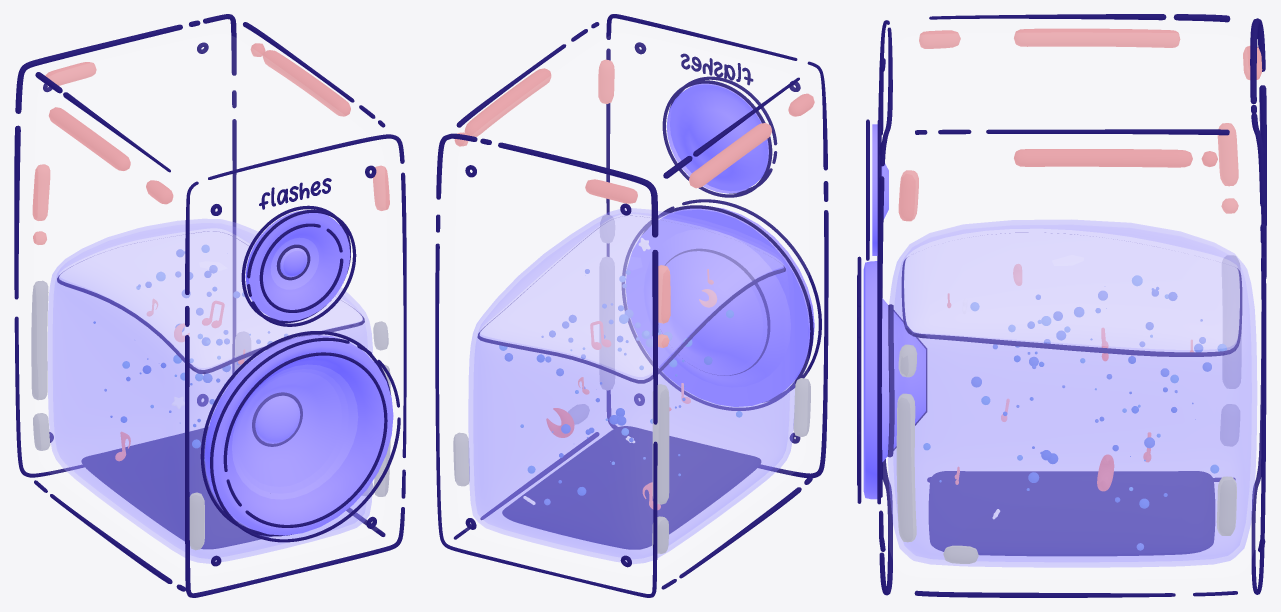
The model's file is speaker.glb.
The picture shows the model from 3 angles, left to right: view 1: azimuth 30°, elevation 25°; view 2: azimuth 150°, elevation 25°; view 3: azimuth 270°, elevation 25°; orthographic projection. The views are drawn at different scales.
Parts seen in each view (by area): view 1: WaveAnimated, Circle, Cube.001, Cube.005, Cube.006, Circle.001, Cube.008, Cube.007, Circle.003, Circle.002, Circle.009, Circle.008 (+5 smaller); view 2: WaveAnimated, Circle, Cube.001, Cube.006, Cube.005, Circle.001, Cube.007, Cube.008, Circle.003, bubles, Outline, Circle.002 (+3 smaller); view 3: WaveAnimated, Cube.001, Cube.006, Cube.005, Cube.008, Cube.007, Circle, bubles, Outline, Circle.002, Circle.001, Cube.003 (+2 smaller).
Boxes of the visible parts, x1,y1,x2,y2 form: WaveAnimated: (48,219,372,563); Circle: (204,335,393,535); Cube.001: (59,229,361,367); Cube.005: (14,14,406,597); Cube.006: (81,427,272,549); Circle.001: (245,210,350,321); Cube.008: (32,43,389,244); Cube.007: (31,280,390,550); Circle.003: (200,205,391,536); Circle.002: (210,337,400,542); Circle.009: (247,209,356,326); Circle.008: (223,352,387,527); WaveAnimated: (468,208,794,563); Circle: (626,207,814,406); Cube.001: (480,214,783,376); Cube.006: (502,426,761,549); Cube.005: (435,14,828,597); Circle.001: (666,83,768,193); Cube.007: (453,214,810,553); Cube.008: (454,59,814,347); Circle.003: (622,80,813,410); bubles: (499,269,742,505); Outline: (477,222,785,383); Circle.002: (642,199,821,402); WaveAnimated: (888,220,1256,567); Cube.001: (904,229,1239,349); Cube.006: (928,471,1215,556); Cube.005: (878,14,1266,597); Cube.008: (898,28,1262,221); Cube.007: (896,255,1241,563); Circle: (863,261,925,499); bubles: (923,275,1226,550); Outline: (901,258,1242,356); Circle.002: (857,256,861,503); Circle.001: (872,124,888,255); Cube.003: (887,304,894,457).
Size of the model in its own units: 1.2 by 2.05 by 1.61.
